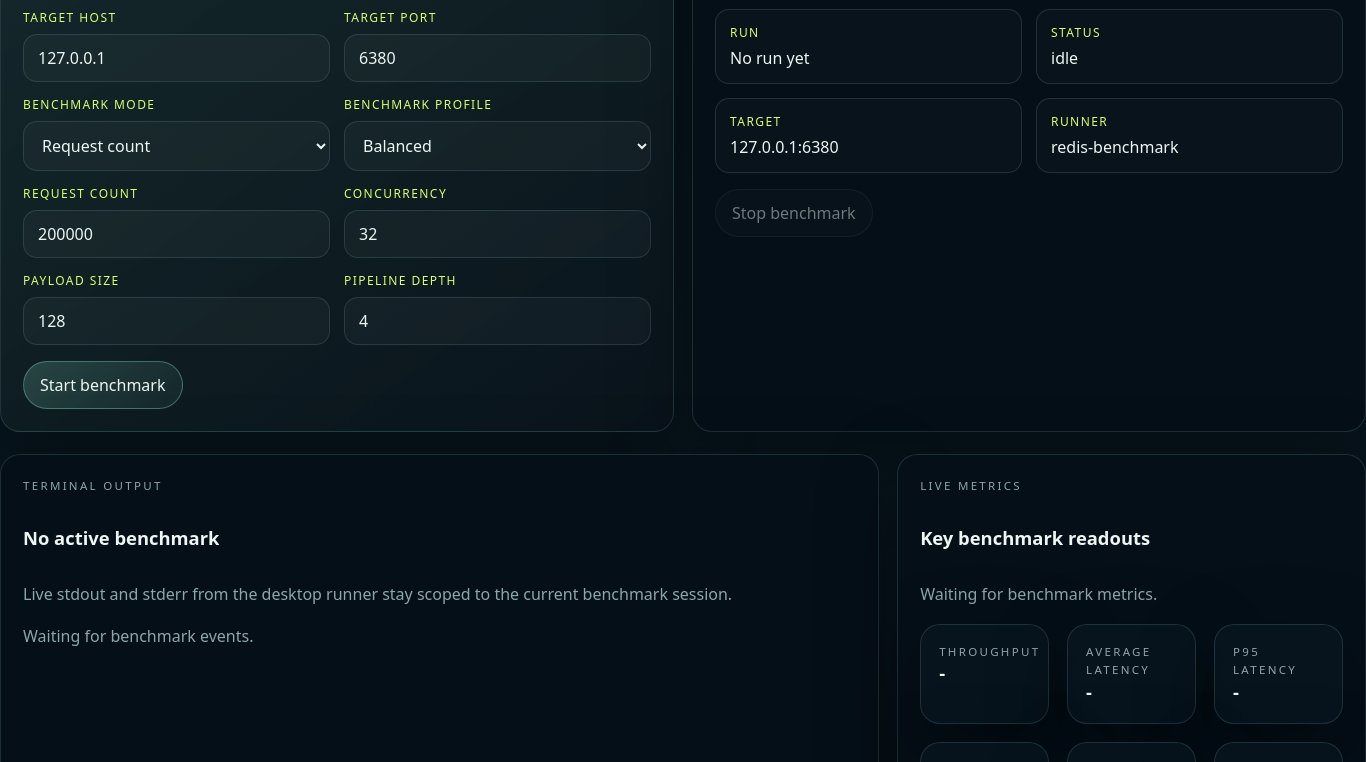
Test: benchmarks page › shows actionable guidance when benchmark start fails
(page scrolled)
Click the button "Start benchmark" at (103, 385), box left=23, top=361, right=182, bottom=409
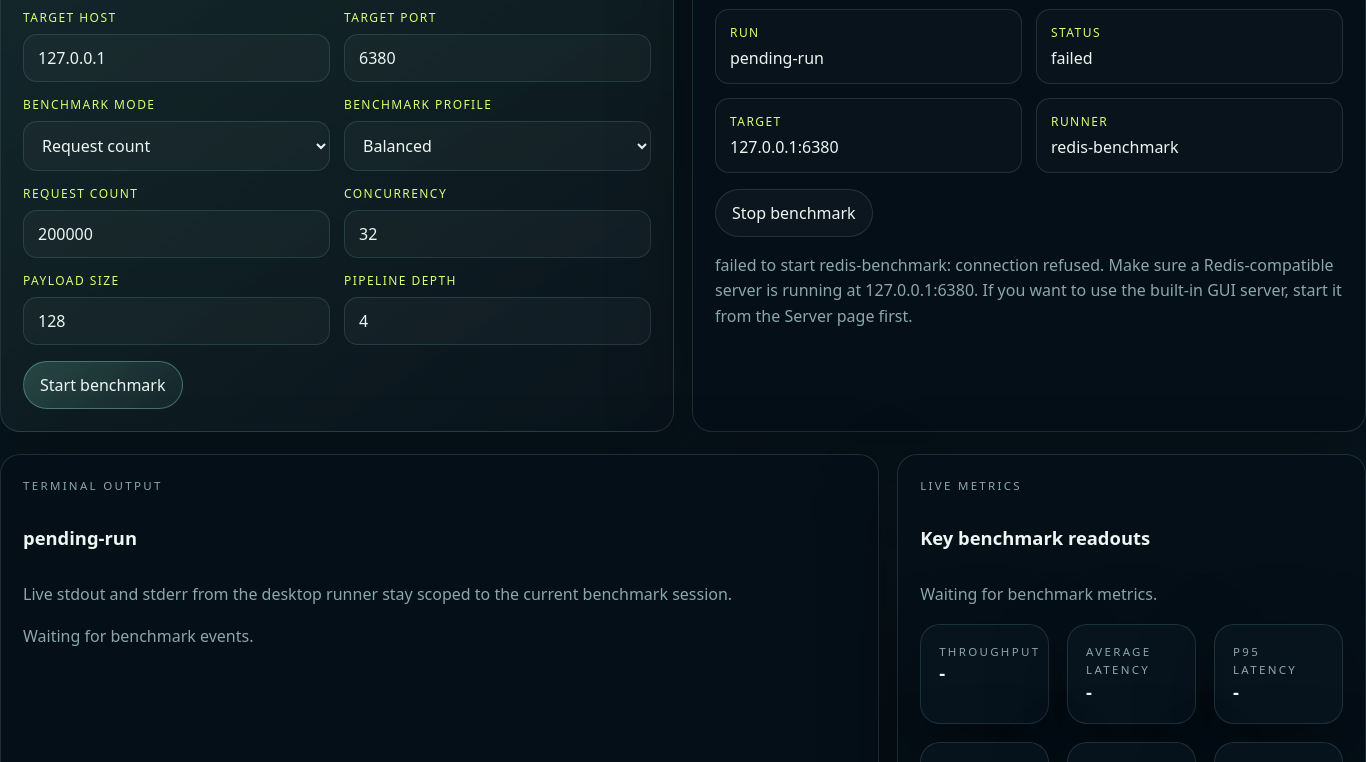
Check: the text "if you want to use the built-in gui server, start it from the server page first" is shown, box left=715, top=254, right=1342, bottom=327
